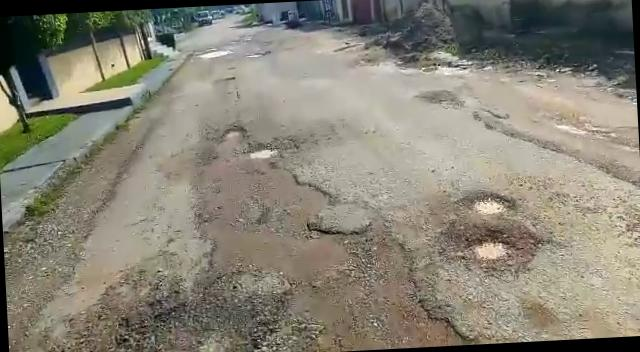pothole: (456, 226, 524, 269), (460, 189, 514, 217), (245, 146, 281, 159), (222, 124, 246, 140)
